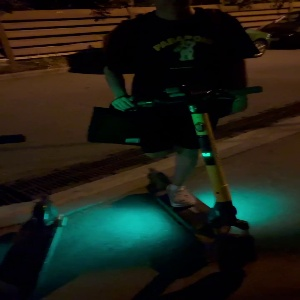human on a scooter: (77, 1, 277, 283)
